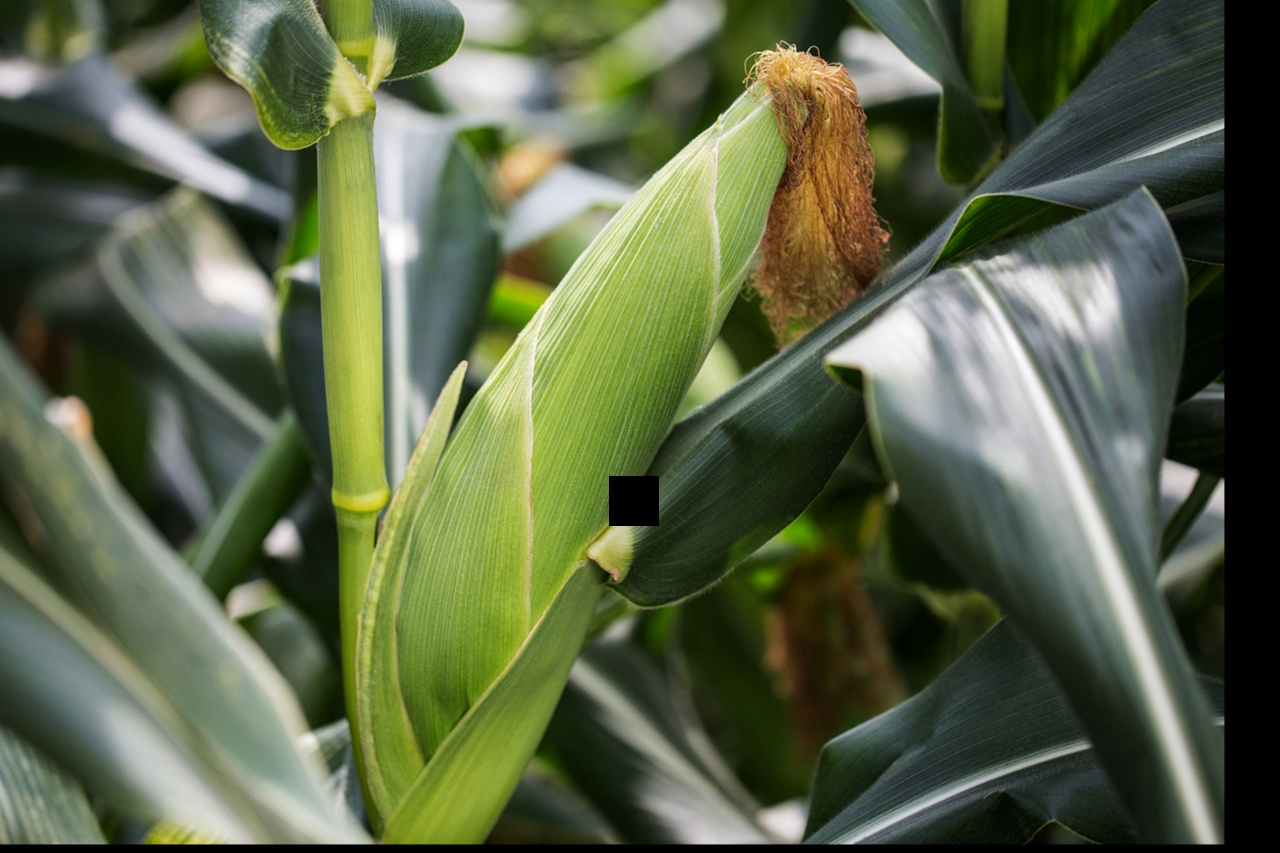corn_plant: (352, 24, 891, 815)
